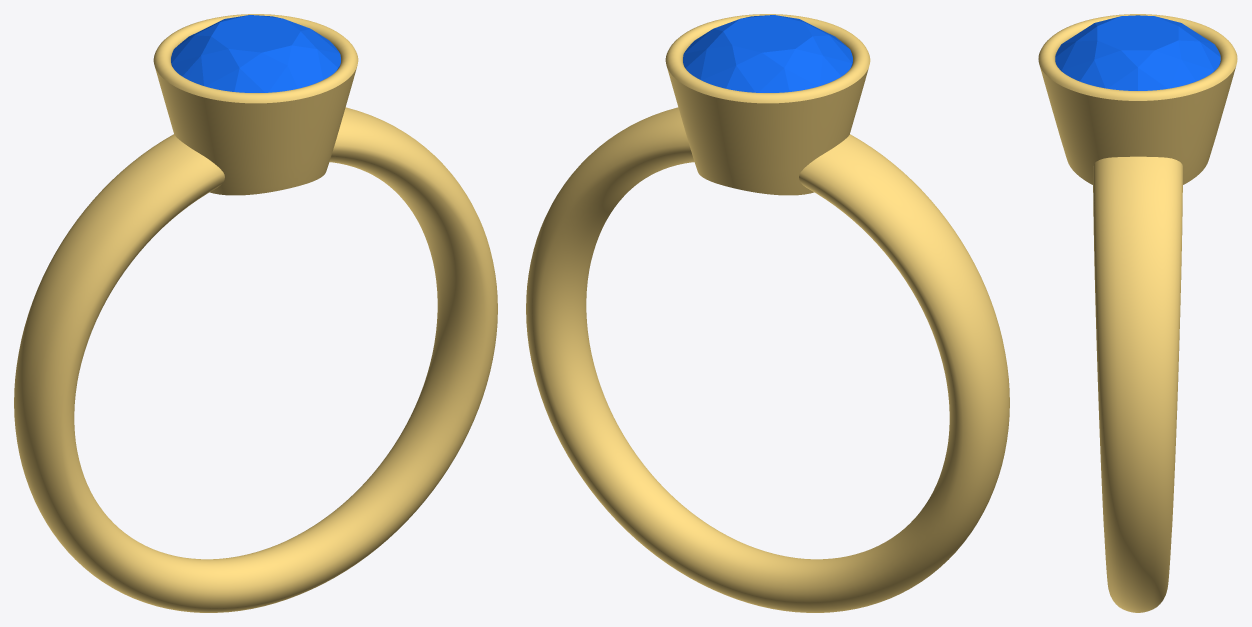
The model's file is bluesapphire-round-yellowgold-bezelset-taperedband-nosidestones.glb.
The picture shows the model from 3 angles, left to right: view 1: azimuth 30°, elevation 25°; view 2: azimuth 150°, elevation 25°; view 3: azimuth 270°, elevation 25°; orthographic projection. The views are drawn at different scales.
Parts seen in each view (by area): view 1: metal, stone; view 2: metal, stone; view 3: metal, stone.
Part boxes in pixels (x1,y1,x2,y2): metal: [14, 14, 497, 612]; stone: [171, 15, 340, 92]; metal: [526, 14, 1009, 612]; stone: [683, 15, 852, 92]; metal: [1038, 14, 1237, 612]; stone: [1055, 15, 1220, 90].
Size of the model in its own units: 20.5 by 23.81 by 7.74.
